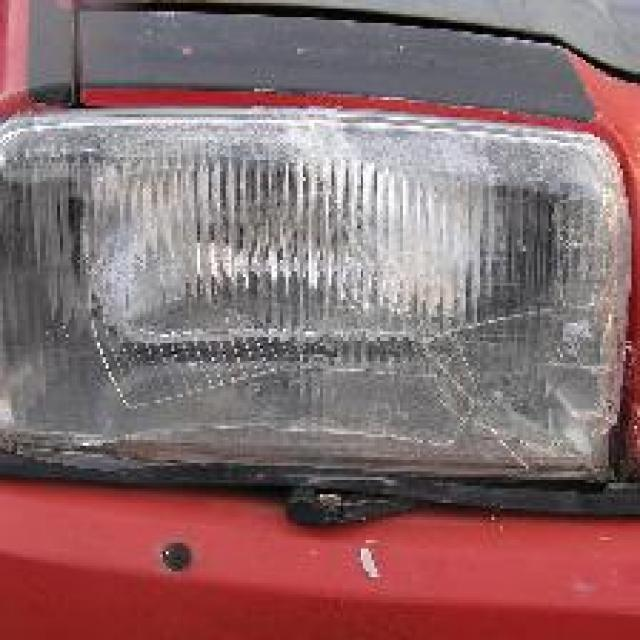damaged: (88, 215, 634, 494)
